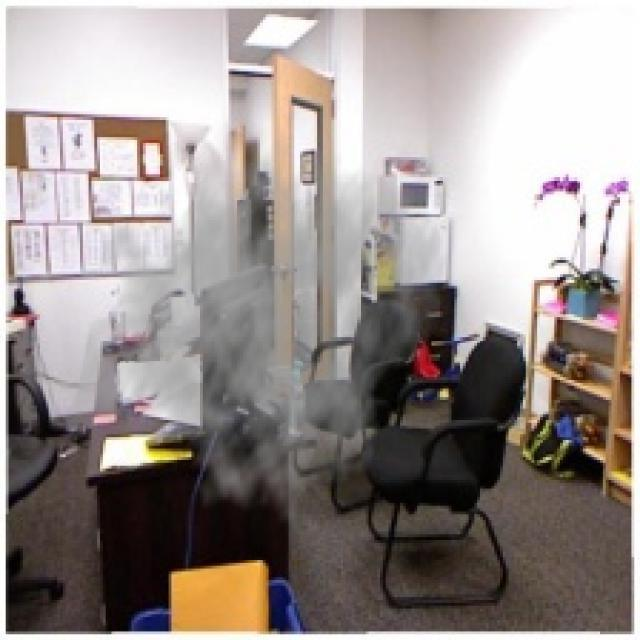Smoke: (71, 111, 448, 528)
